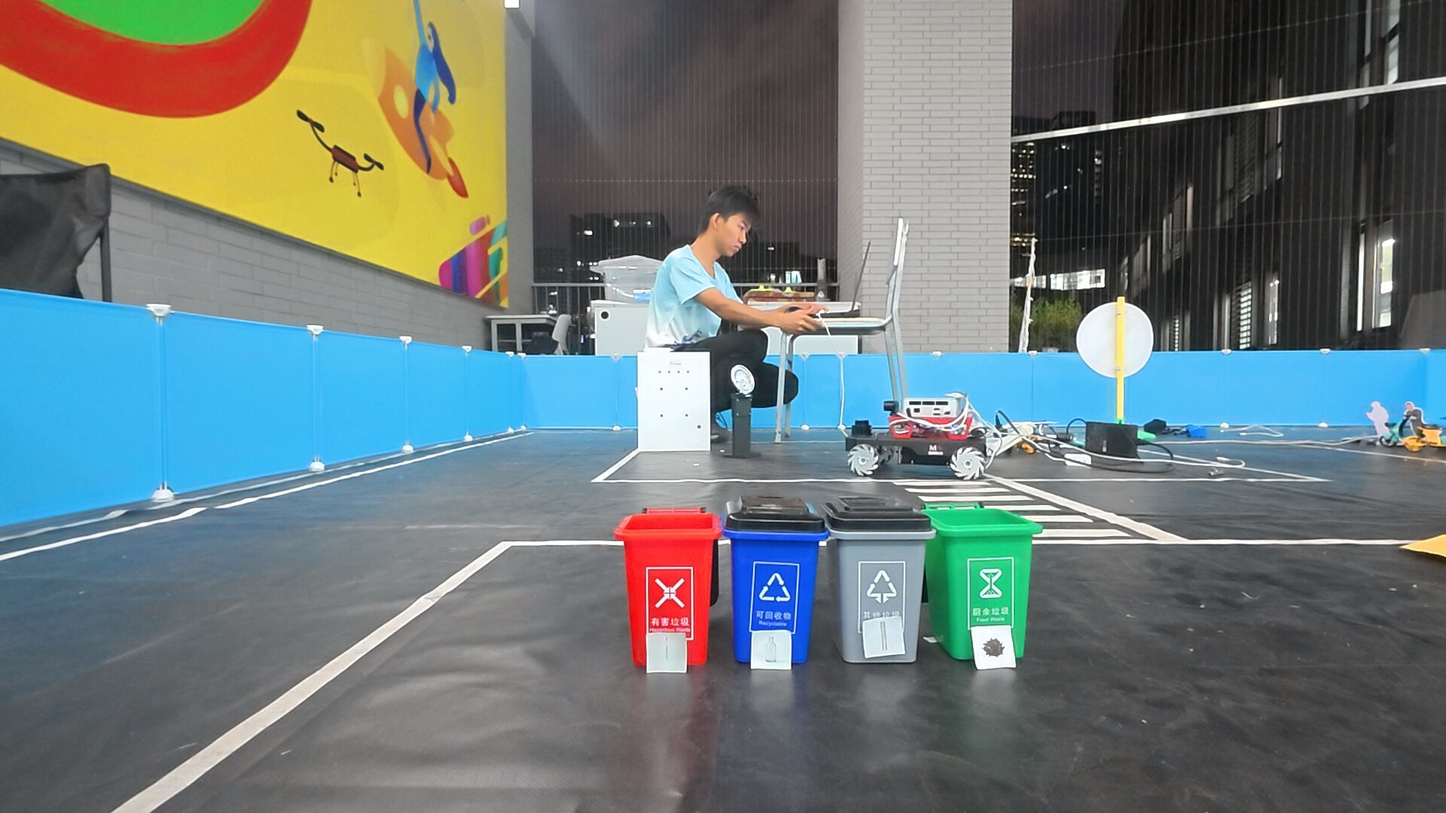food_trash: (975, 628, 1011, 666)
hazardous_trash: (648, 635, 685, 671)
other_trash: (866, 620, 899, 653)
recyclable_trash: (754, 632, 787, 666)
